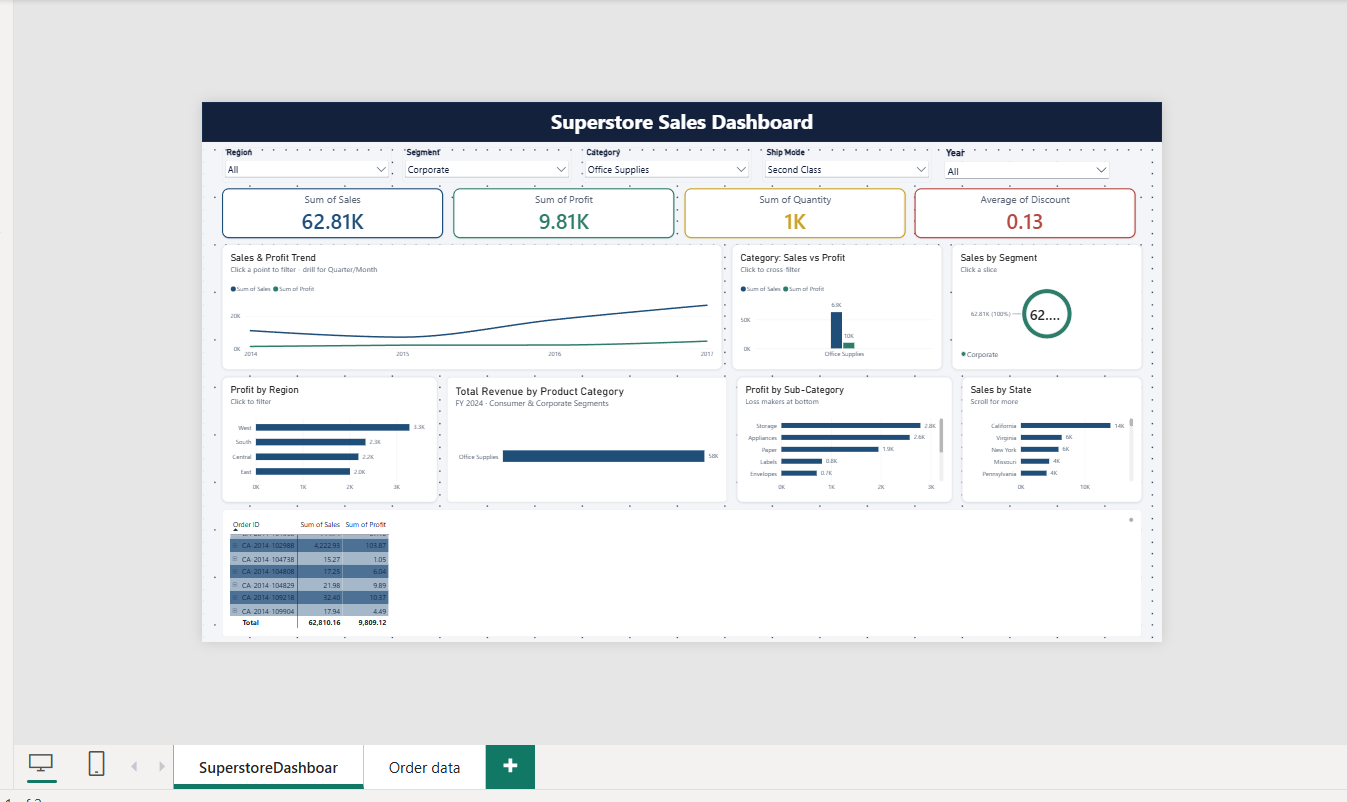

Layout of this report page (visuals, bound fields, positions):
{"tool":"powerbi","page":{"name":"SuperstoreDashboar","canvas":[1920,1080],"ordinal":0},"visuals":[{"type":"shape","box":[0,0,1920,80],"z":1000},{"type":"textbox","box":[460,10,1000,60],"z":2000},{"type":"slicer","fields":{"Values":["Superstore.Region"]},"box":[40,90,340,72],"z":3000},{"type":"slicer","fields":{"Values":["Superstore.Segment"]},"box":[400,90,340,72],"z":4000},{"type":"slicer","fields":{"Values":["Superstore.Category"]},"box":[760,90,340,72],"z":5000},{"type":"slicer","fields":{"Values":["Superstore.Ship Mode"]},"box":[1120,90,340,72],"z":6000},{"type":"slicer","fields":{"Values":["Superstore.Ship Date.Variation.Date Hierarchy.Year"]},"box":[1480,90,340,72],"z":7000},{"type":"cardVisual","fields":{"Data":["Sum(Superstore.Sales)"]},"box":[40,172,442,100],"z":7000},{"type":"cardVisual","fields":{"Data":["Sum(Superstore.Profit)"]},"box":[502,172,442,100],"z":8000},{"type":"cardVisual","fields":{"Data":["Sum(Superstore.Quantity)"]},"box":[964,172,442,100],"z":9000},{"type":"cardVisual","fields":{"Data":["Avg(Superstore.Discount)"]},"box":[1426,172,442,100],"z":10000},{"type":"clusteredColumnChart","title":"Category: Sales vs Profit","fields":{"Category":["Superstore.Category"],"Y":["Sum(Superstore.Sales)","Sum(Superstore.Profit)"]},"box":[1060,285,420,250],"z":11000},{"type":"lineChart","title":"Sales & Profit Trend","fields":{"Category":["Superstore.Order Date.Variation.Date Hierarchy.Year","Superstore.Order Date.Variation.Date Hierarchy.Quarter","Superstore.Order Date.Variation.Date Hierarchy.Month"],"Y":["Sum(Superstore.Sales)","Sum(Superstore.Profit)"]},"box":[40,285,1000,250],"z":12000},{"type":"donutChart","title":"Sales by Segment","fields":{"Category":["Superstore.Segment"],"Y":["Sum(Superstore.Sales)"]},"box":[1500,285,380,250],"z":12000},{"type":"clusteredBarChart","title":"Profit by Region","fields":{"Category":["Superstore.Region"],"Y":["Sum(Superstore.Profit)"]},"box":[40,550,430,250],"z":13000},{"type":"clusteredBarChart","title":"Profit by Sub-Category","fields":{"Category":["Superstore.Sub-Category"],"Y":["Sum(Superstore.Profit)"]},"box":[1070,550,430,250],"z":14000},{"type":"clusteredBarChart","title":"Sales by State","fields":{"Category":["Superstore.State"],"Y":["Sum(Superstore.Sales)"]},"box":[1520,550,360,250],"z":15000},{"type":"clusteredBarChart","title":"Total Revenue by Product Category","fields":{"Category":["Superstore.Category","Superstore.Region"],"Y":["Sum(Superstore.Sales)"]},"box":[490,550,560,250],"z":16000},{"type":"pivotTable","fields":{"Rows":["Superstore.Order ID","Superstore.Order Date.Variation.Date Hierarchy.Year","Superstore.Order Date.Variation.Date Hierarchy.Quarter","Superstore.Order Date.Variation.Date Hierarchy.Month","Superstore.Order Date.Variation.Date Hierarchy.Day","Superstore.Customer Name","Superstore.Region","Superstore.Category","Superstore.Sub-Category"],"Values":["Sum(Superstore.Sales)","Sum(Superstore.Profit)"]},"box":[40,815,1840,255],"z":19000}]}

Visuals, with their boxes on the page's 1920x1080 design canvas (x1, y1, x2, y2). These are canvas units, not pixel positions in the 1347x802 screenshot, which may show the page scaled, cropped or inside an application window:
shape: [left=0, top=0, right=1920, bottom=80]
textbox: [left=460, top=10, right=1460, bottom=70]
slicer - Superstore.Region: [left=40, top=90, right=380, bottom=162]
slicer - Superstore.Segment: [left=400, top=90, right=740, bottom=162]
slicer - Superstore.Category: [left=760, top=90, right=1100, bottom=162]
slicer - Superstore.Ship Mode: [left=1120, top=90, right=1460, bottom=162]
slicer - Superstore.Ship Date.Variation.Date Hierarchy.Year: [left=1480, top=90, right=1820, bottom=162]
cardVisual - Sum(Superstore.Sales): [left=40, top=172, right=482, bottom=272]
cardVisual - Sum(Superstore.Profit): [left=502, top=172, right=944, bottom=272]
cardVisual - Sum(Superstore.Quantity): [left=964, top=172, right=1406, bottom=272]
cardVisual - Avg(Superstore.Discount): [left=1426, top=172, right=1868, bottom=272]
"Category: Sales vs Profit" clusteredColumnChart: [left=1060, top=285, right=1480, bottom=535]
"Sales & Profit Trend" lineChart: [left=40, top=285, right=1040, bottom=535]
"Sales by Segment" donutChart: [left=1500, top=285, right=1880, bottom=535]
"Profit by Region" clusteredBarChart: [left=40, top=550, right=470, bottom=800]
"Profit by Sub-Category" clusteredBarChart: [left=1070, top=550, right=1500, bottom=800]
"Sales by State" clusteredBarChart: [left=1520, top=550, right=1880, bottom=800]
"Total Revenue by Product Category" clusteredBarChart: [left=490, top=550, right=1050, bottom=800]
pivotTable - Superstore.Order ID x Superstore.Order Date.Variation.Date Hierarchy.Year: [left=40, top=815, right=1880, bottom=1070]
